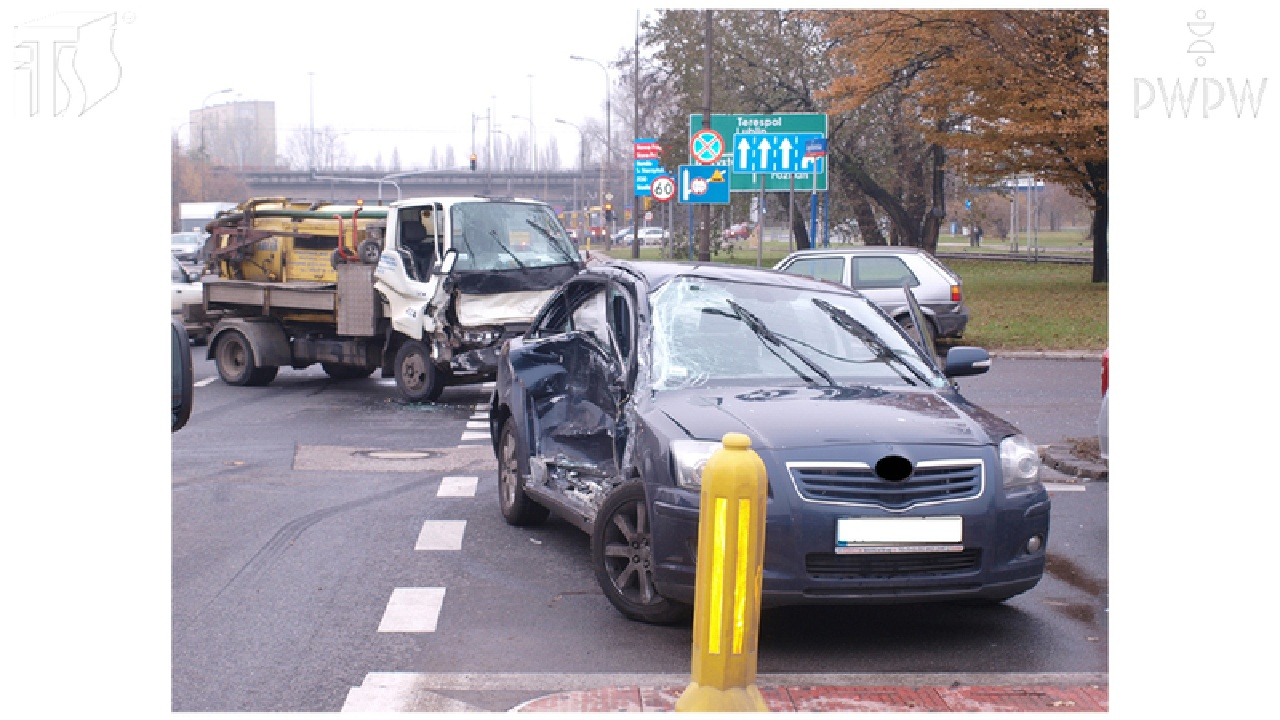B33_60: (651, 176, 675, 202)
B36: (690, 129, 725, 165)
